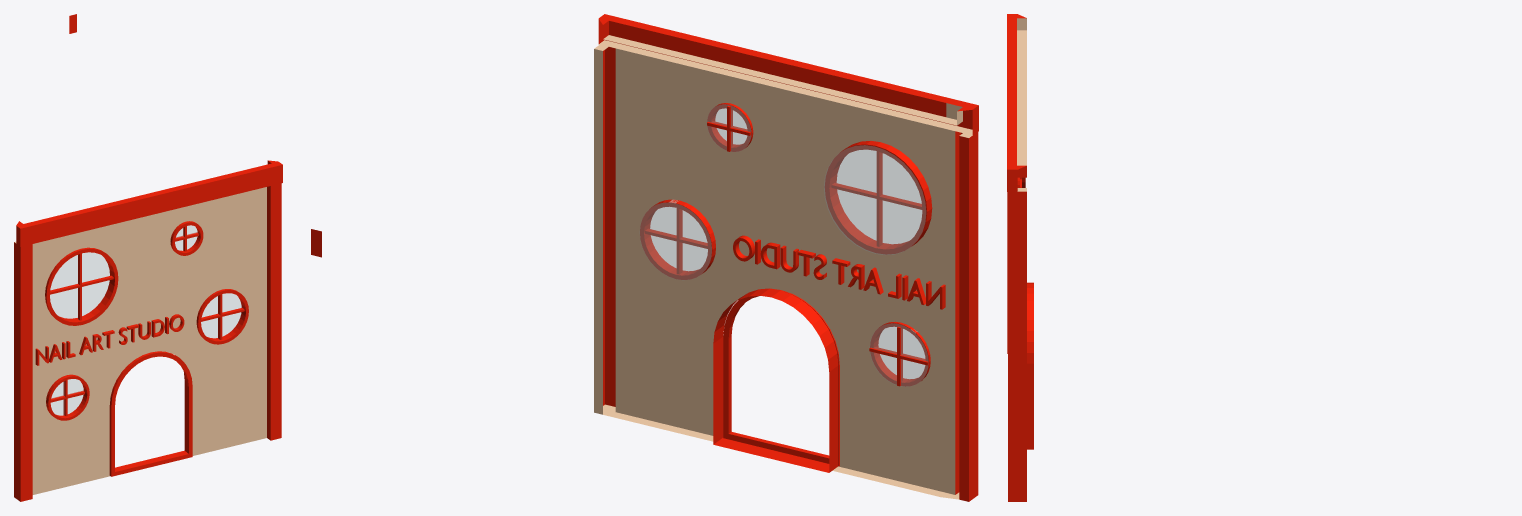
3 renders of one model, left to right at view 1: azimuth 30°, elevation 25°; view 2: azimuth 150°, elevation 25°; view 3: azimuth 270°, elevation 25°, orthographic. The views are drawn at different scales.
Parts seen in each view (by area): view 1: Circle.014_m_white, Circle.014_m_koyupembe.001, Circle.014_m_cam; view 2: Circle.014_m_white, Circle.014_m_koyupembe.001, Circle.014_m_cam; view 3: Circle.014_m_koyupembe.001, Circle.014_m_white.
Part boxes in pixels (x1=…): Circle.014_m_white: x1=14, y1=187, x2=266, y2=494; Circle.014_m_koyupembe.001: x1=14, y1=14, x2=282, y2=501; Circle.014_m_cam: x1=50, y1=225, x2=241, y2=415; Circle.014_m_white: x1=594, y1=35, x2=972, y2=499; Circle.014_m_koyupembe.001: x1=311, y1=14, x2=978, y2=501; Circle.014_m_cam: x1=639, y1=104, x2=928, y2=386; Circle.014_m_koyupembe.001: x1=1007, y1=14, x2=1033, y2=501; Circle.014_m_white: x1=1017, y1=18, x2=1026, y2=191.
Bounding box in the file's own units: 138 × 137 × 187.
